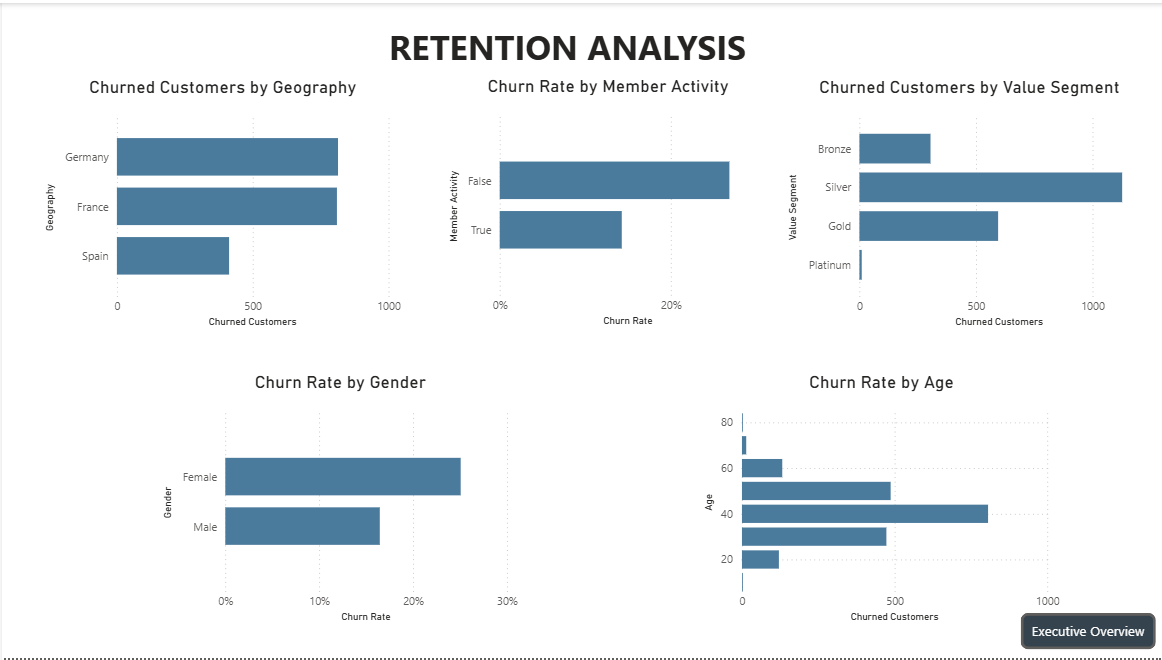

The dashboard page shown, as its layout file describes it:
{"tool":"powerbi","page":{"name":"Retention Analysis","canvas":[1280,720],"ordinal":2},"visuals":[{"type":"clusteredBarChart","title":"Churned Customers by Geography","fields":{"Category":["customers.geography"],"Y":["_Measures.Churned Customers"]},"box":[42.5,81,400,280],"z":0},{"type":"textbox","box":[419.7,18.3,414.1,62],"z":1000},{"type":"clusteredBarChart","title":"Churn Rate by Member Activity","fields":{"Category":["customers.is_active_member"],"Y":["_Measures.Churn Rate"]},"box":[485.8,79.6,359.5,279.9],"z":2000},{"type":"clusteredBarChart","title":"Churn Rate by Gender","fields":{"Category":["customers.gender"],"Y":["_Measures.Churn Rate"]},"box":[171.5,404.8,400,280],"z":3000},{"type":"clusteredBarChart","title":"Churn Rate by Age","fields":{"Category":["customers.age (bins)"],"Y":["_Measures.Churned Customers"]},"box":[765.7,404.8,400,280],"z":4000},{"type":"actionButton","box":[1118.4,669.6,148.2,39.8],"z":5000},{"type":"clusteredBarChart","fields":{"Category":["customers.Value Segment"],"Y":["_Measures.Churned Customers"]},"box":[857.6,81,408.9,279.9],"z":6000}]}

Visuals, with their boxes in screenshot pixels (x1, y1, x2, y2), scaled from the page's 1280x720 canvas onto the 1162x660 screenshot:
"Churned Customers by Geography" clusteredBarChart: bbox=[39, 74, 402, 331]
textbox: bbox=[381, 17, 757, 74]
"Churn Rate by Member Activity" clusteredBarChart: bbox=[441, 73, 767, 330]
"Churn Rate by Gender" clusteredBarChart: bbox=[156, 371, 519, 628]
"Churn Rate by Age" clusteredBarChart: bbox=[695, 371, 1058, 628]
actionButton: bbox=[1015, 614, 1150, 650]
clusteredBarChart - customers.Value Segment x _Measures.Churned Customers: bbox=[779, 74, 1150, 331]
